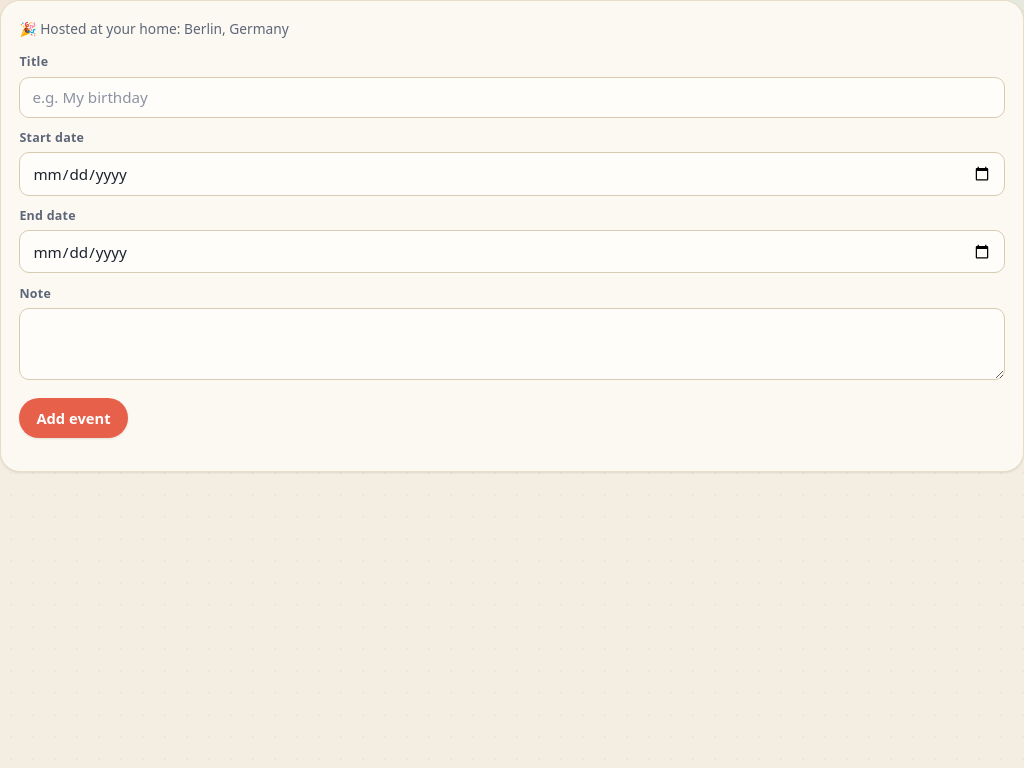
it: EventForm › rejects inverted dates
The width and height of the screenshot is (1024, 768).
Type "Party" into the field labelled "Title". click: [512, 97]
box: [19,76,1005,118]
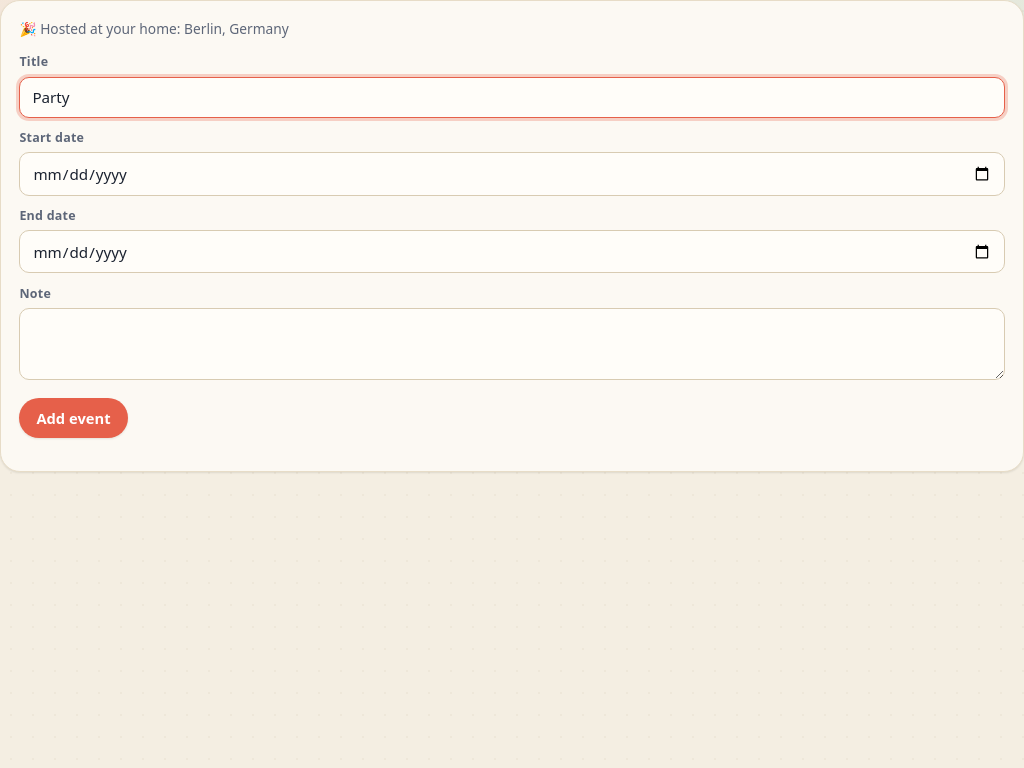
Type "2026-07-10" into the date field labelled "Start date". click: [512, 174]
box: [19,152,1005,196]
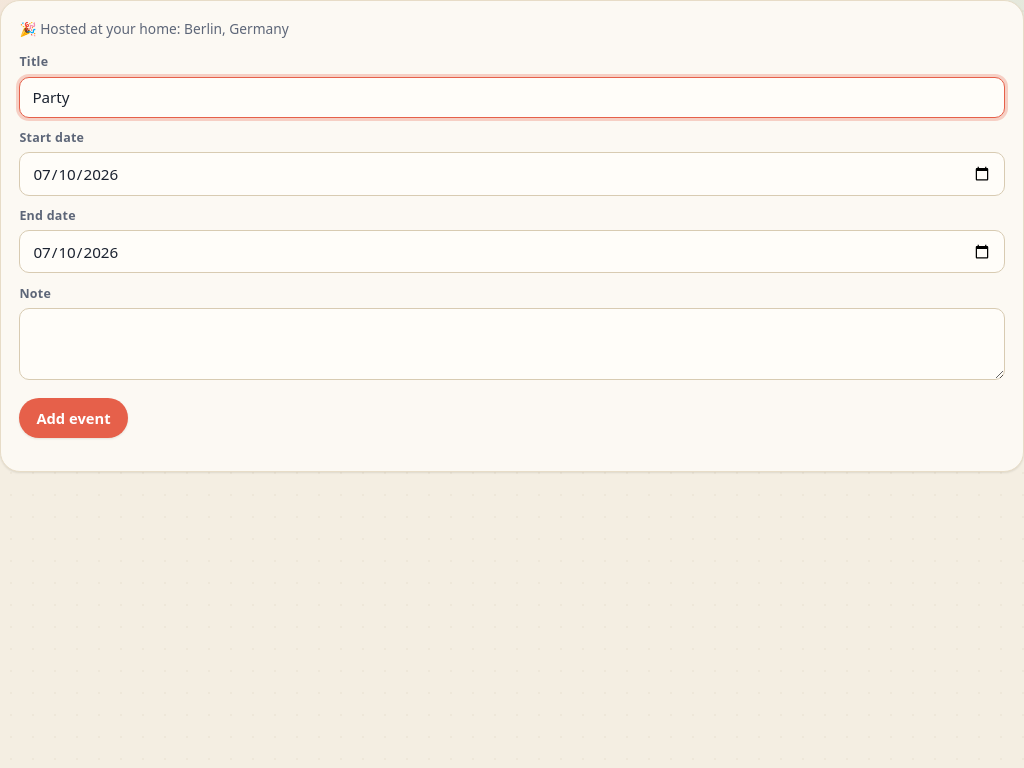
Type "2026-07-01" into the date field labelled "End date". click: [512, 252]
box: [19,230,1005,274]
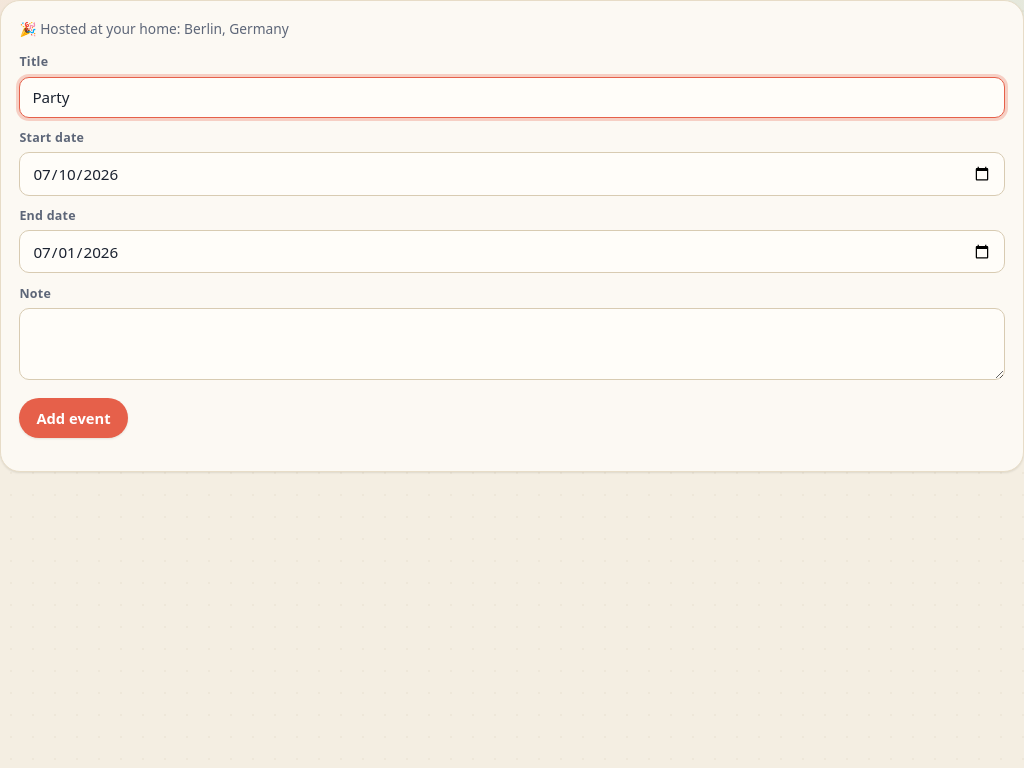
Click the button "Add event". click: [74, 418]
box: [19,398,128,438]
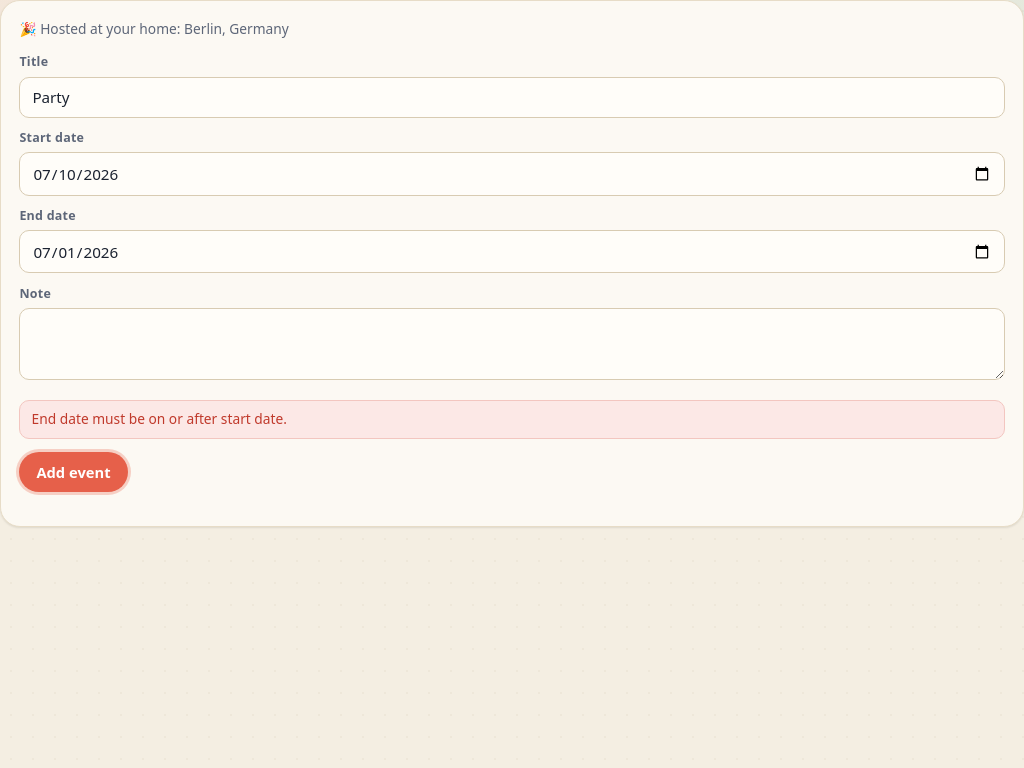
expect the text "End date must be on or after start date." is shown: met, box [19,400,1005,438]
